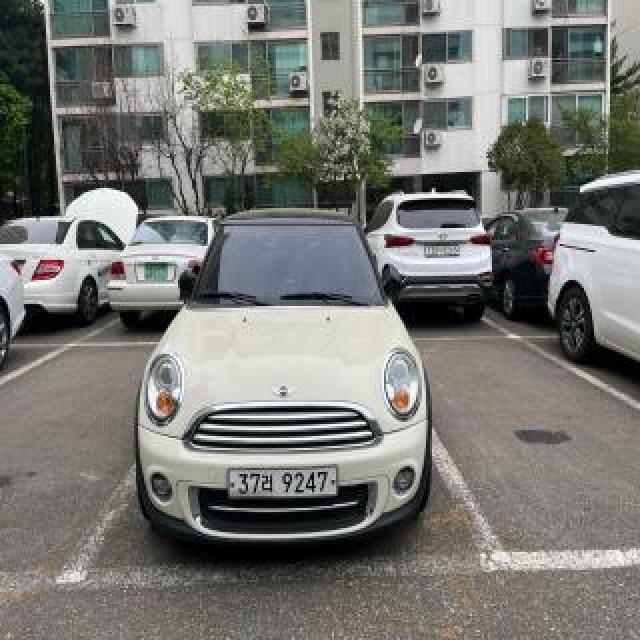car: (129, 198, 437, 558)
illegal_plate: (225, 466, 342, 508)
